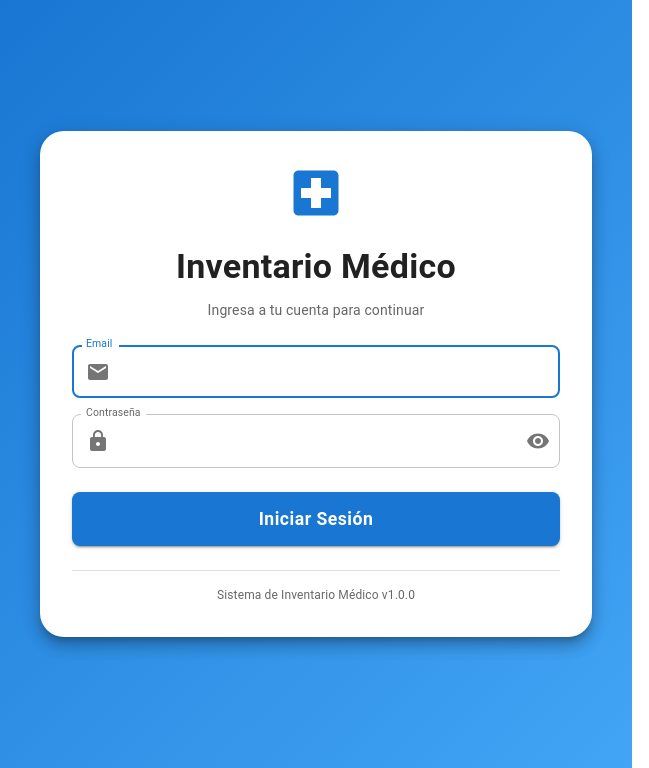
Test case: LoginPage Integration Test › should display error message for inactive account (403)
In the field labelled "Email": coordinates (339, 372) [118,345,560,398], type "inactive@example.com"
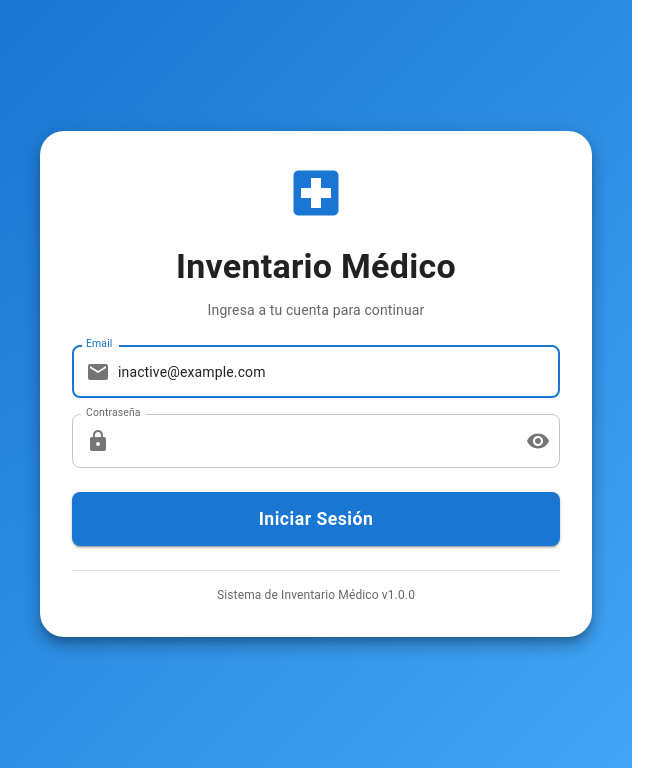
In the password field labelled "Contraseña": coordinates (314, 441) [118,414,510,468], type "password123"
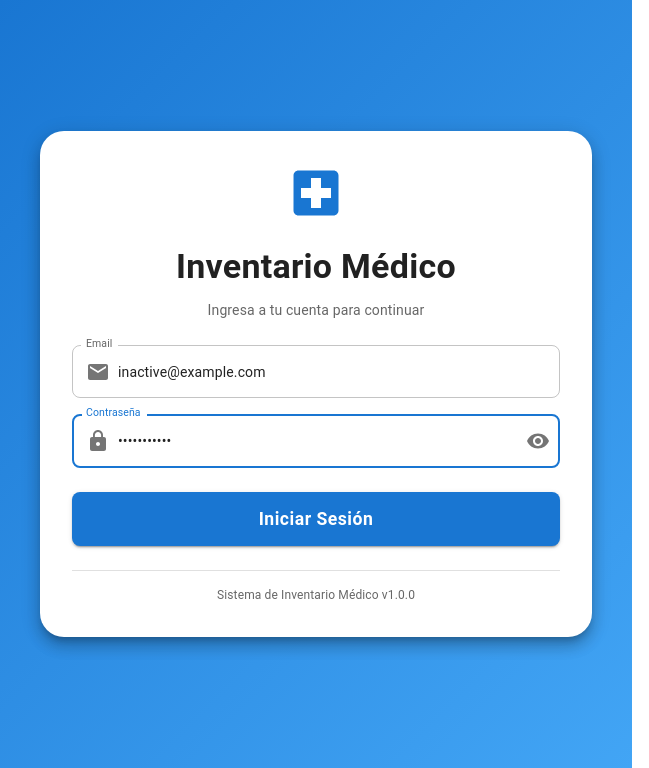
Click the button "Iniciar Sesión": coordinates (316, 519) [72,492,560,546]
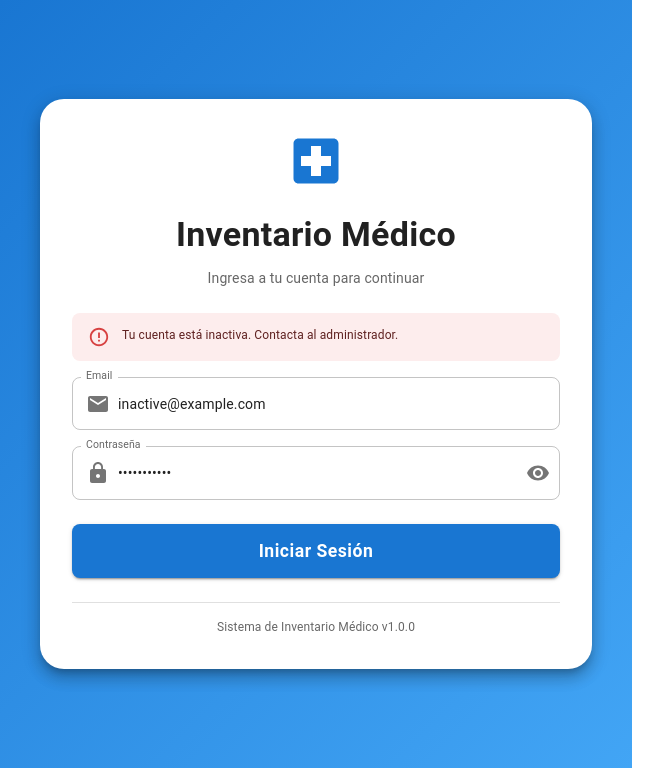
Expected: the text "Tu cuenta está inactiva. Contacta al administrador." is shown, [122,328,398,342]
